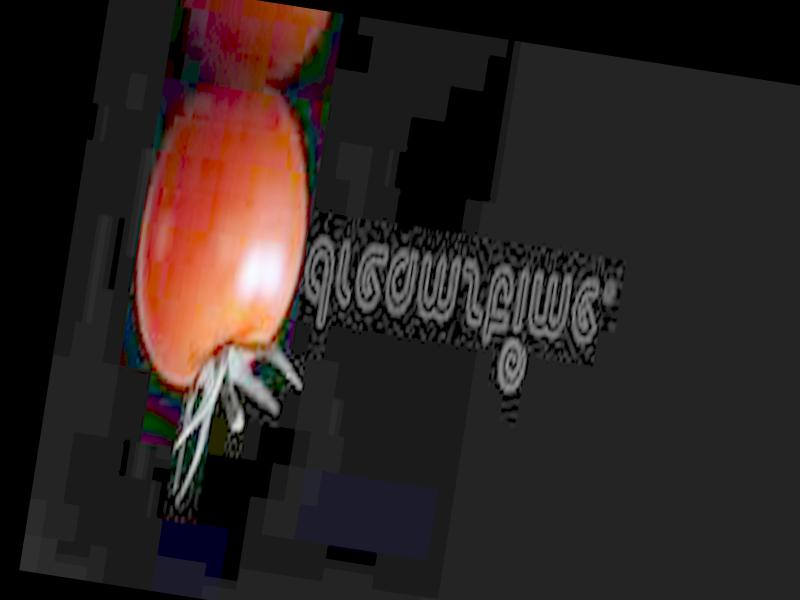Tomato: (119, 77, 325, 403)
